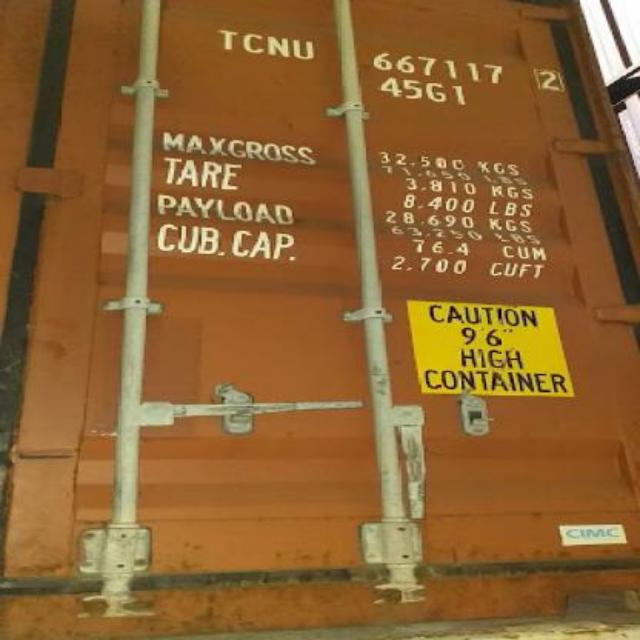1: (442, 54, 464, 80), (462, 57, 482, 81)
2: (536, 68, 564, 90)
6: (394, 50, 418, 74), (368, 50, 396, 70)
7: (416, 51, 440, 77), (482, 60, 506, 86)
C: (244, 30, 264, 56)
N: (262, 34, 292, 60)
T: (212, 28, 240, 50)
U: (292, 36, 318, 60)
